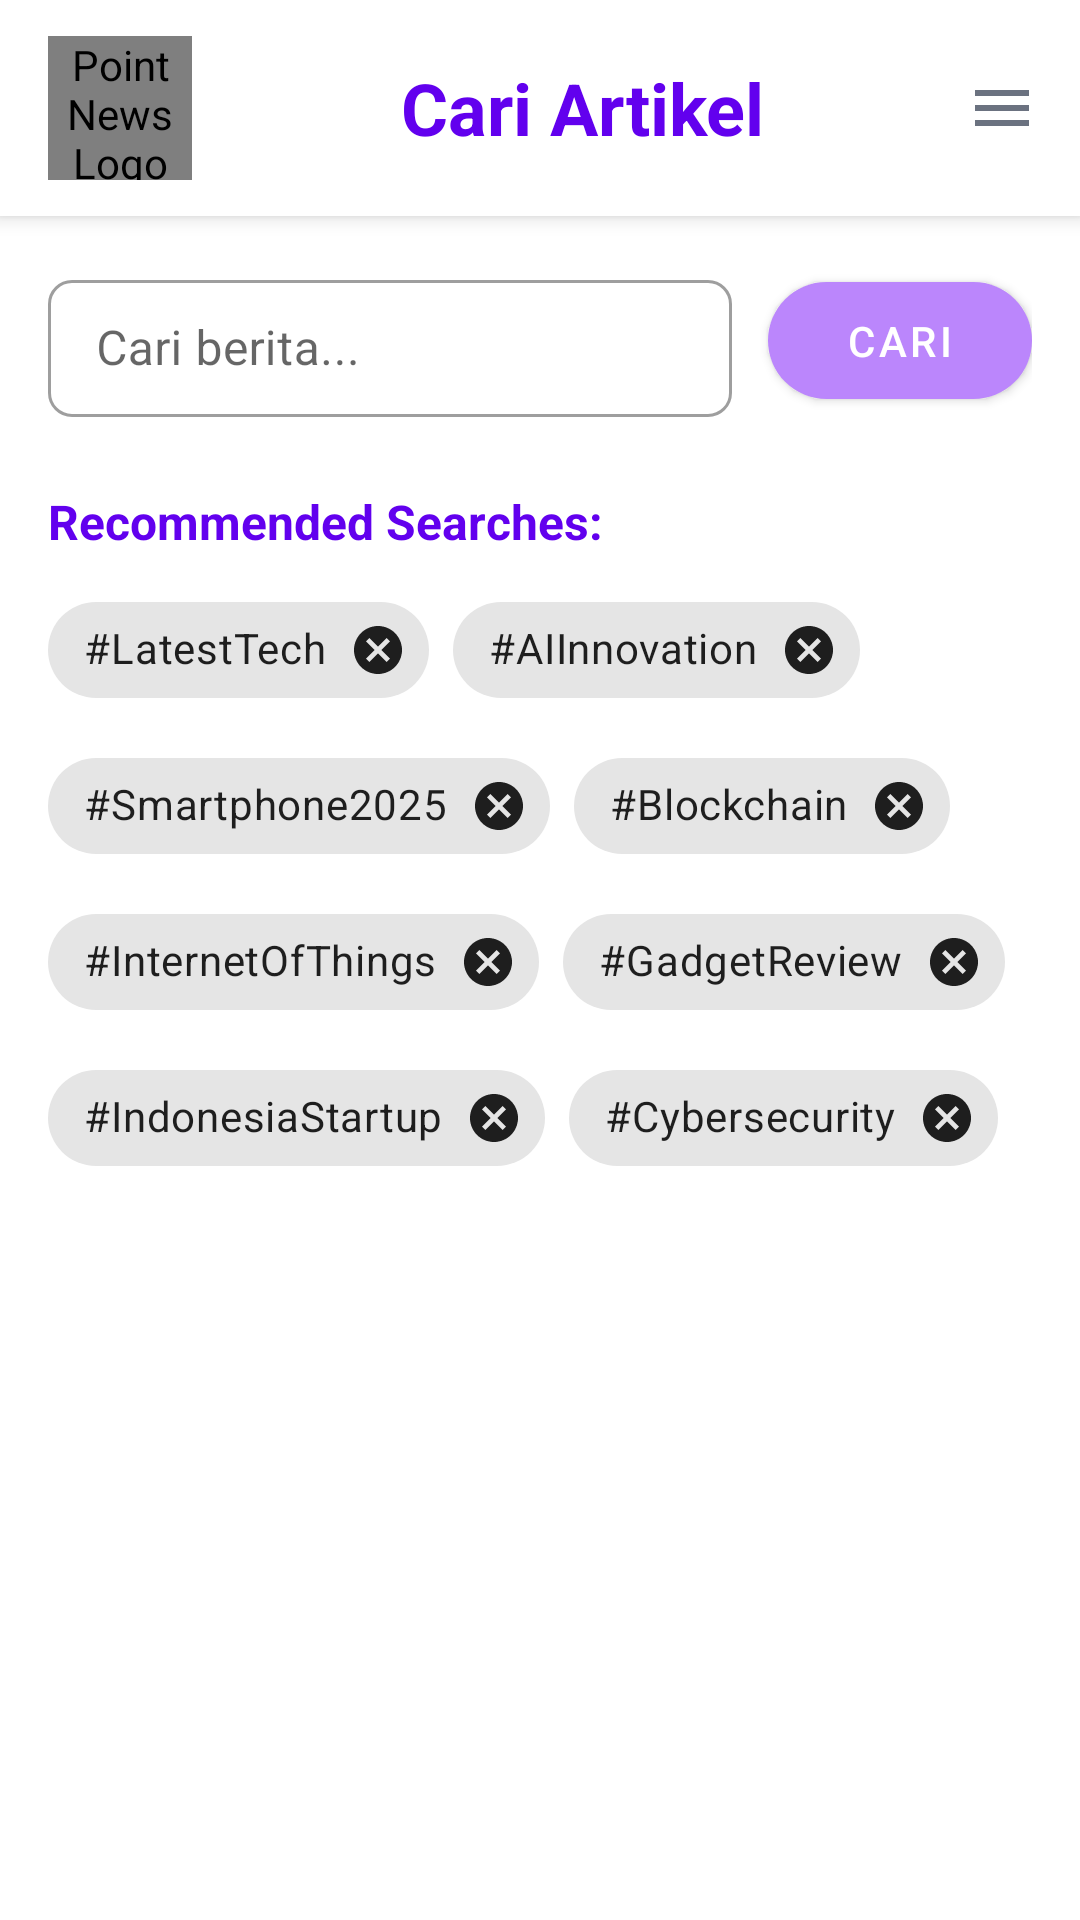

Screen size 1080x1920. Icon name, then its center in pixels as point (x, y):
Open navigation drawer: point (1002, 108)
